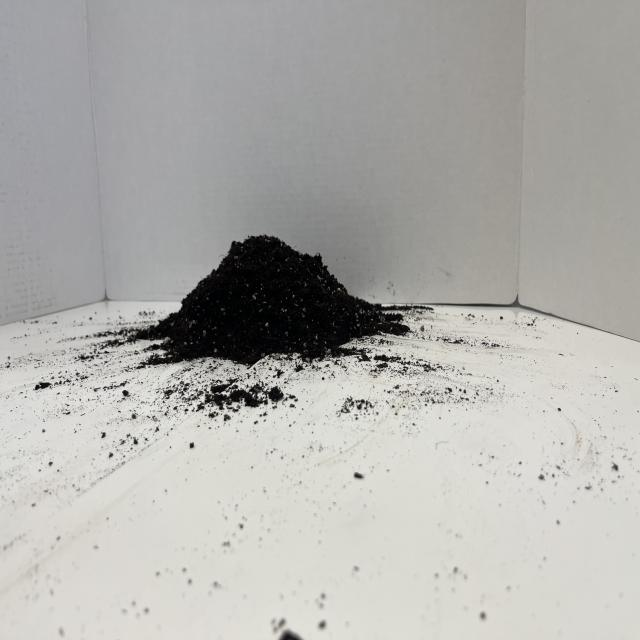soil: (144, 231, 410, 366)
